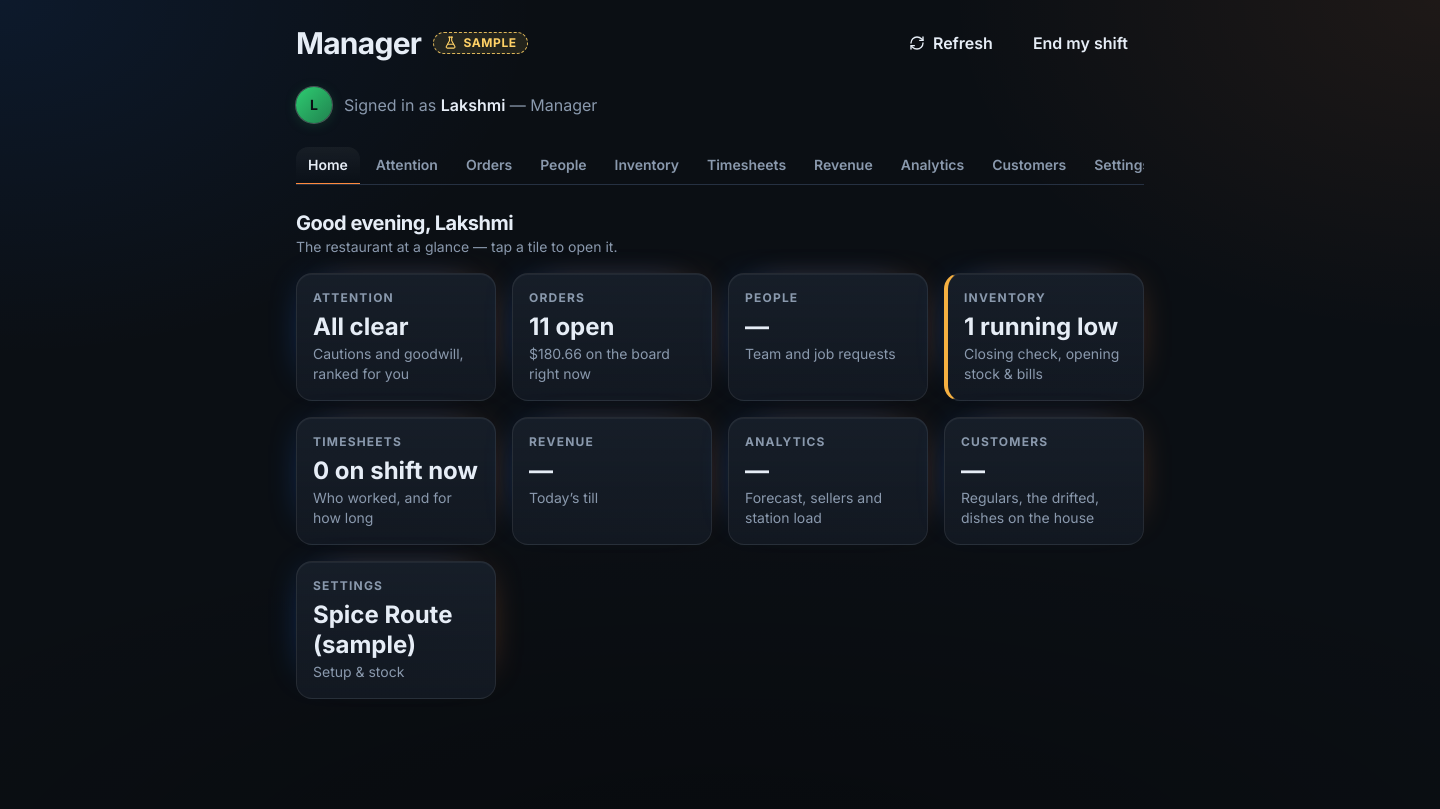
Test case: attention_cards_carry_severity_pills_and_their_evidence
Click the tab "Attention" at (407, 166), box [364,147,450,185]
(page scrolled)
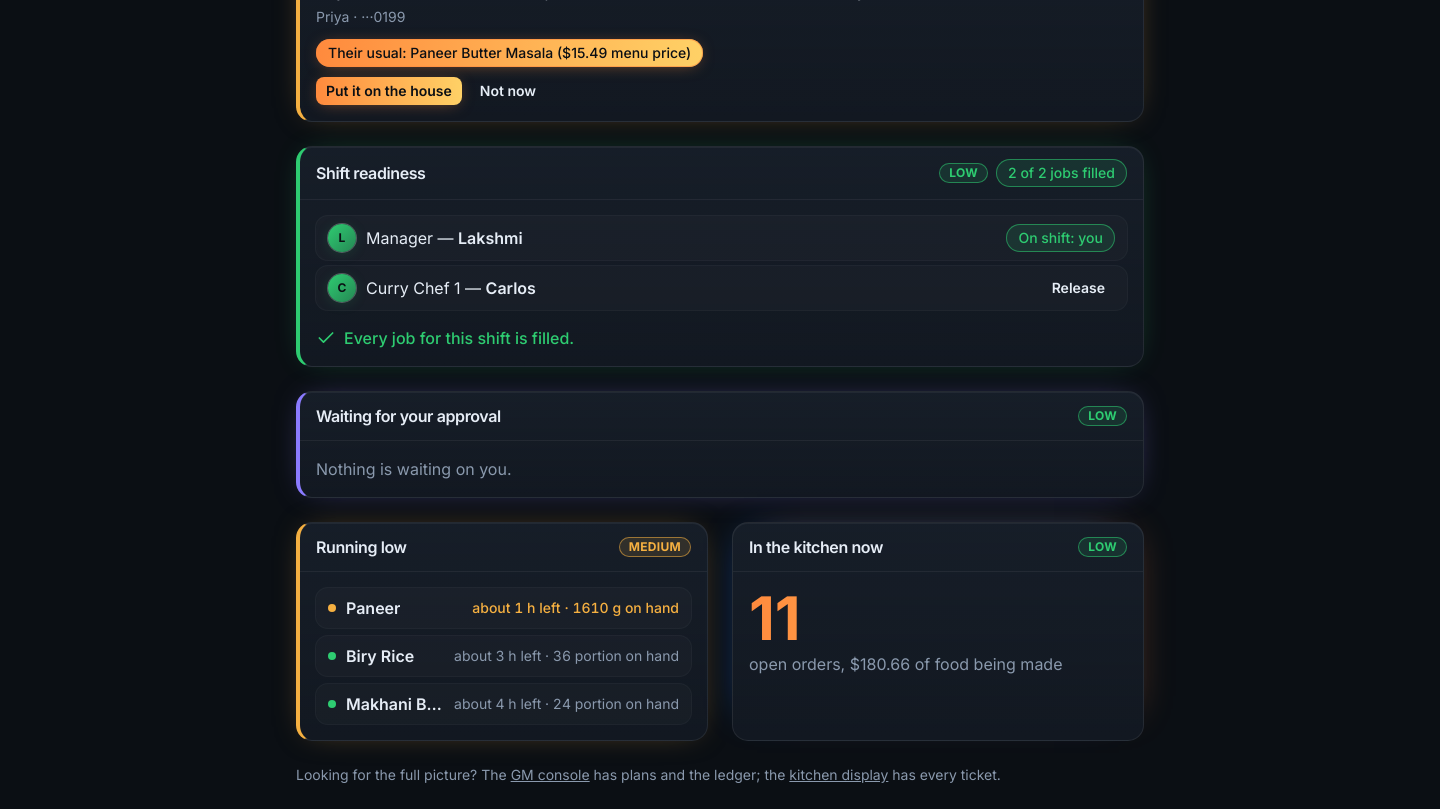
Now the button "Put it on the house" is shown, box [316,77,462,105]
Now the text "Low" next to "2 of 2 jobs filled" is shown, box [949,165,978,180]
Now the text "Low" in the row of "Waiting for your approval" is shown, box [1088,408,1117,423]
